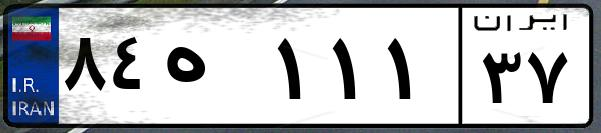1: (270, 28, 330, 110), (385, 28, 445, 110), (330, 28, 385, 110)
3: (475, 38, 525, 113)
4: (110, 28, 158, 98)
7: (525, 38, 570, 115)
8: (57, 26, 110, 100)
ه: (158, 20, 270, 120)
